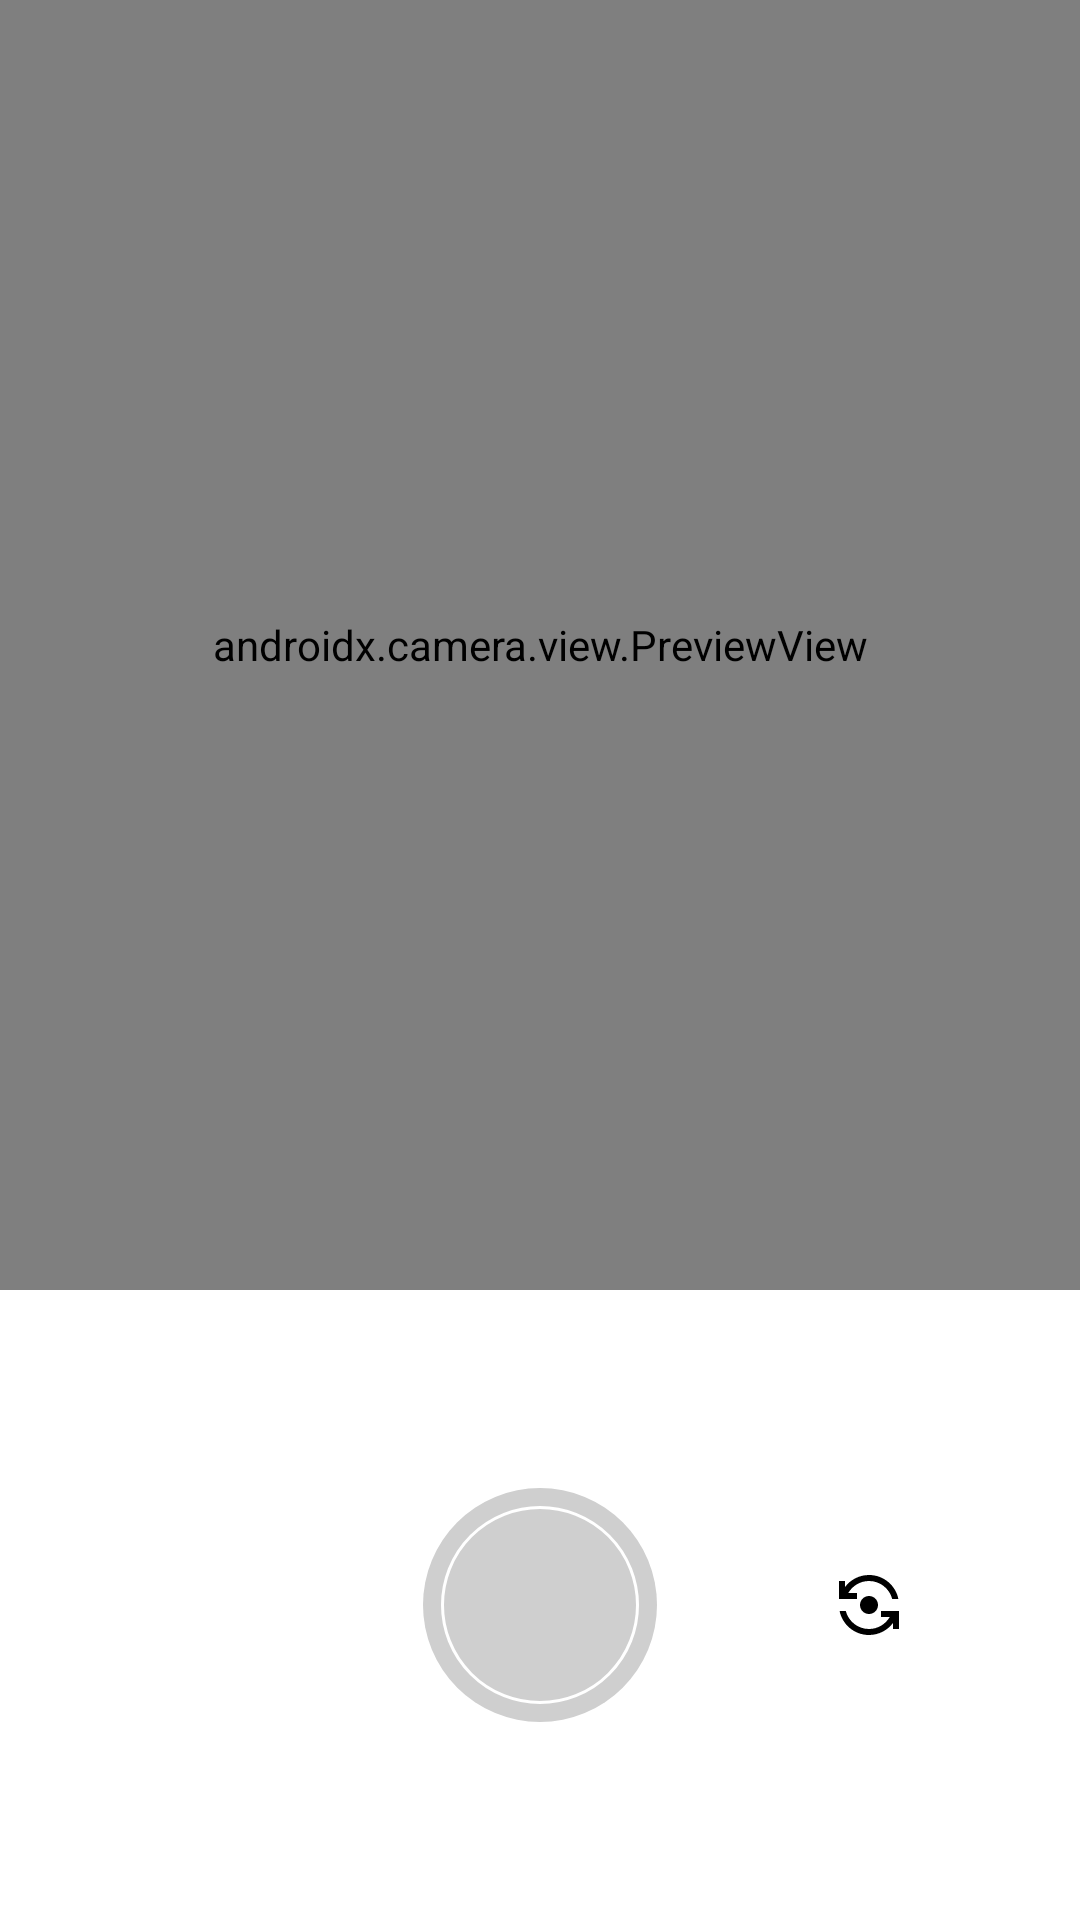

Icons on this 1080 × 1920 Android screen, each with its box as rect(x1, y1, x2, y2):
capture: rect(423, 1488, 657, 1722)
switch camera: rect(839, 1575, 899, 1635)
